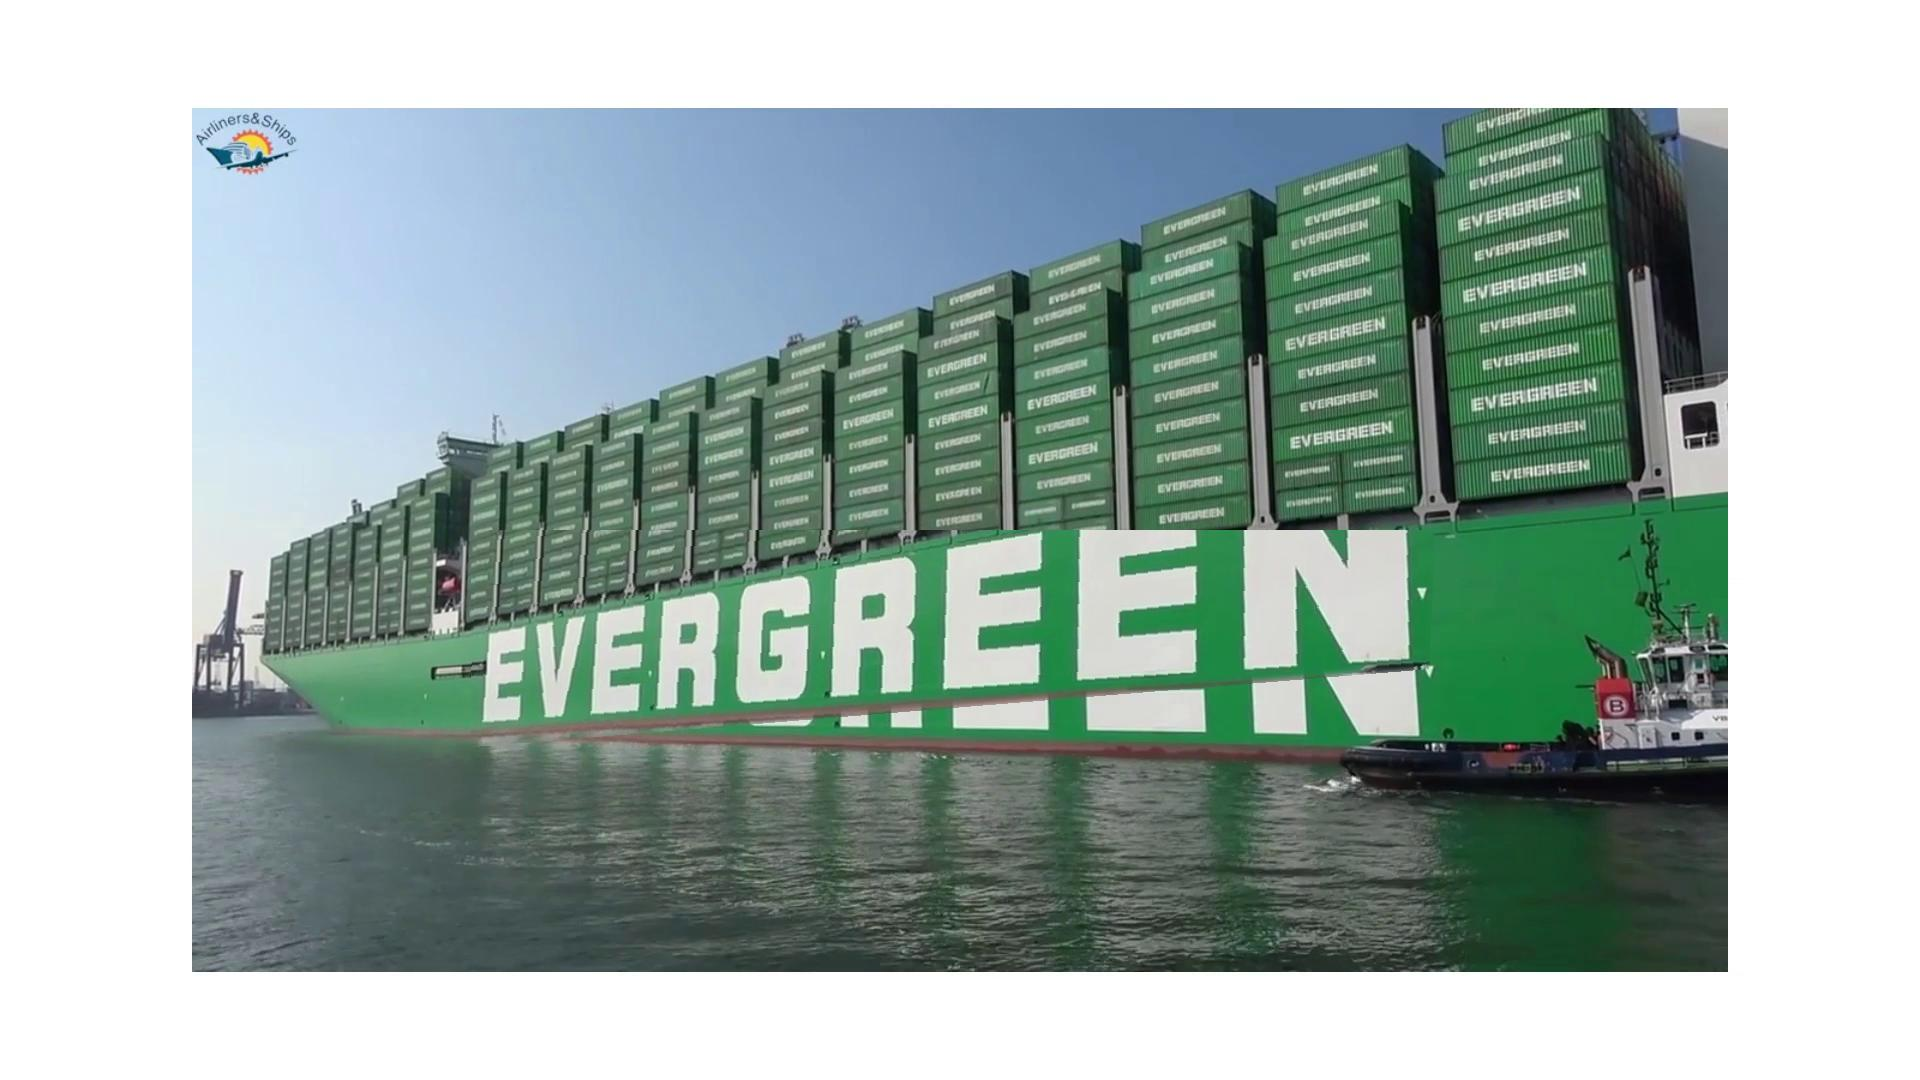OCR: (472, 530, 1440, 748)
